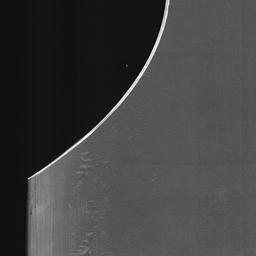Crescent gap: (28, 0, 165, 177)
